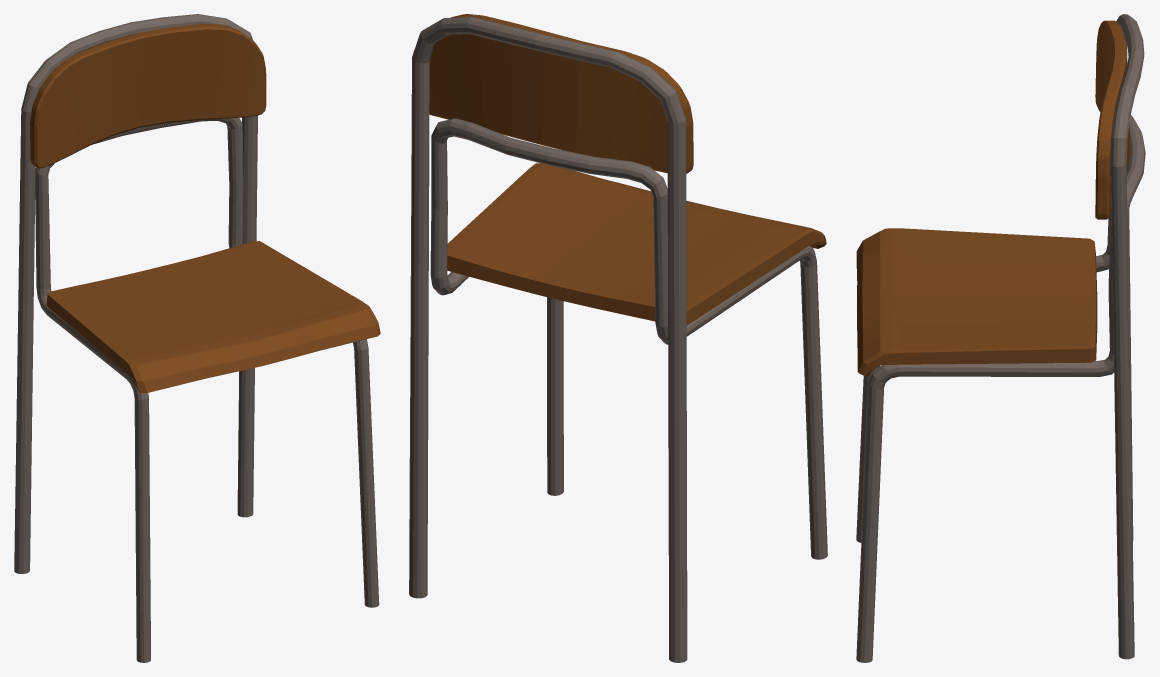
File: chair.fbx
The picture shows the model from 3 angles, left to right: view 1: azimuth 30°, elevation 25°; view 2: azimuth 150°, elevation 25°; view 3: azimuth 270°, elevation 25°; orthographic projection. The views are drawn at different scales.
Parts seen in each view (by area): view 1: back leg.002; view 2: back leg.002; view 3: back leg.002.
Part boxes in pixels (box(x1,y1,x2,y2)): back leg.002: box(14, 14, 380, 662); back leg.002: box(409, 14, 827, 662); back leg.002: box(856, 14, 1145, 662).
Size of the model in its own units: 1.49 by 3.03 by 1.44.
